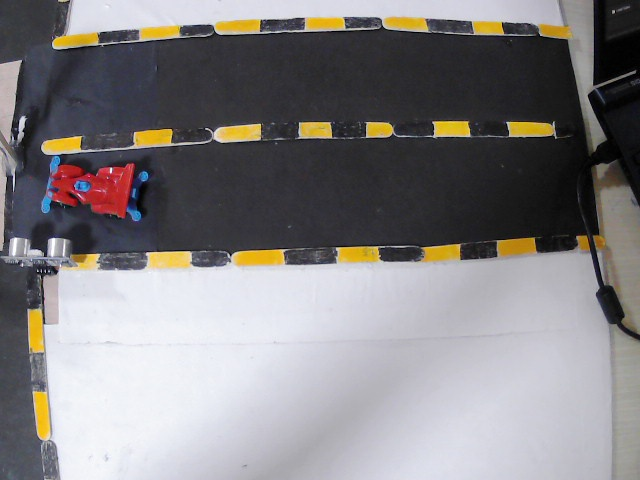black_strip: (428, 16, 472, 34), (285, 248, 333, 263), (40, 440, 59, 477), (100, 26, 134, 46), (472, 119, 507, 138), (191, 250, 229, 267), (345, 14, 379, 32), (537, 236, 577, 251), (29, 352, 46, 387), (179, 20, 214, 37), (381, 247, 420, 262), (394, 120, 430, 136), (82, 136, 133, 147), (459, 242, 494, 258), (260, 18, 303, 31), (100, 252, 143, 265), (263, 124, 297, 140), (175, 128, 209, 143), (29, 268, 42, 305), (504, 21, 536, 35), (332, 121, 361, 136), (554, 121, 575, 138)
car: (38, 153, 152, 221)
mixed_lane: (65, 231, 604, 269), (38, 118, 605, 153), (53, 14, 574, 43), (23, 266, 59, 477)
uno_breadboard: (7, 235, 72, 267)
yellow_strip: (30, 391, 51, 439), (144, 252, 192, 269), (231, 250, 285, 265), (334, 248, 381, 265), (26, 308, 44, 352), (213, 126, 263, 141), (384, 16, 428, 33), (506, 121, 554, 136), (496, 240, 536, 258), (297, 121, 333, 140), (421, 246, 461, 262), (133, 132, 174, 146), (432, 121, 472, 135), (41, 141, 83, 154), (305, 16, 346, 29), (51, 37, 99, 48), (214, 21, 258, 33), (363, 121, 395, 137), (135, 26, 177, 38), (537, 25, 571, 38), (69, 254, 100, 268), (472, 21, 504, 33), (578, 234, 604, 248)
